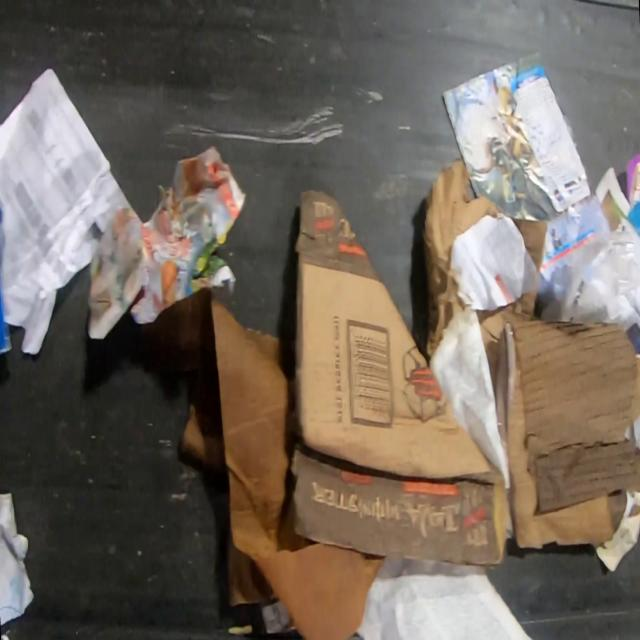cardboard: (290, 190, 506, 570), (154, 291, 384, 640), (495, 319, 640, 548), (422, 159, 502, 358), (476, 289, 537, 399), (512, 217, 548, 271)
soft_plastic: (559, 230, 640, 332)
